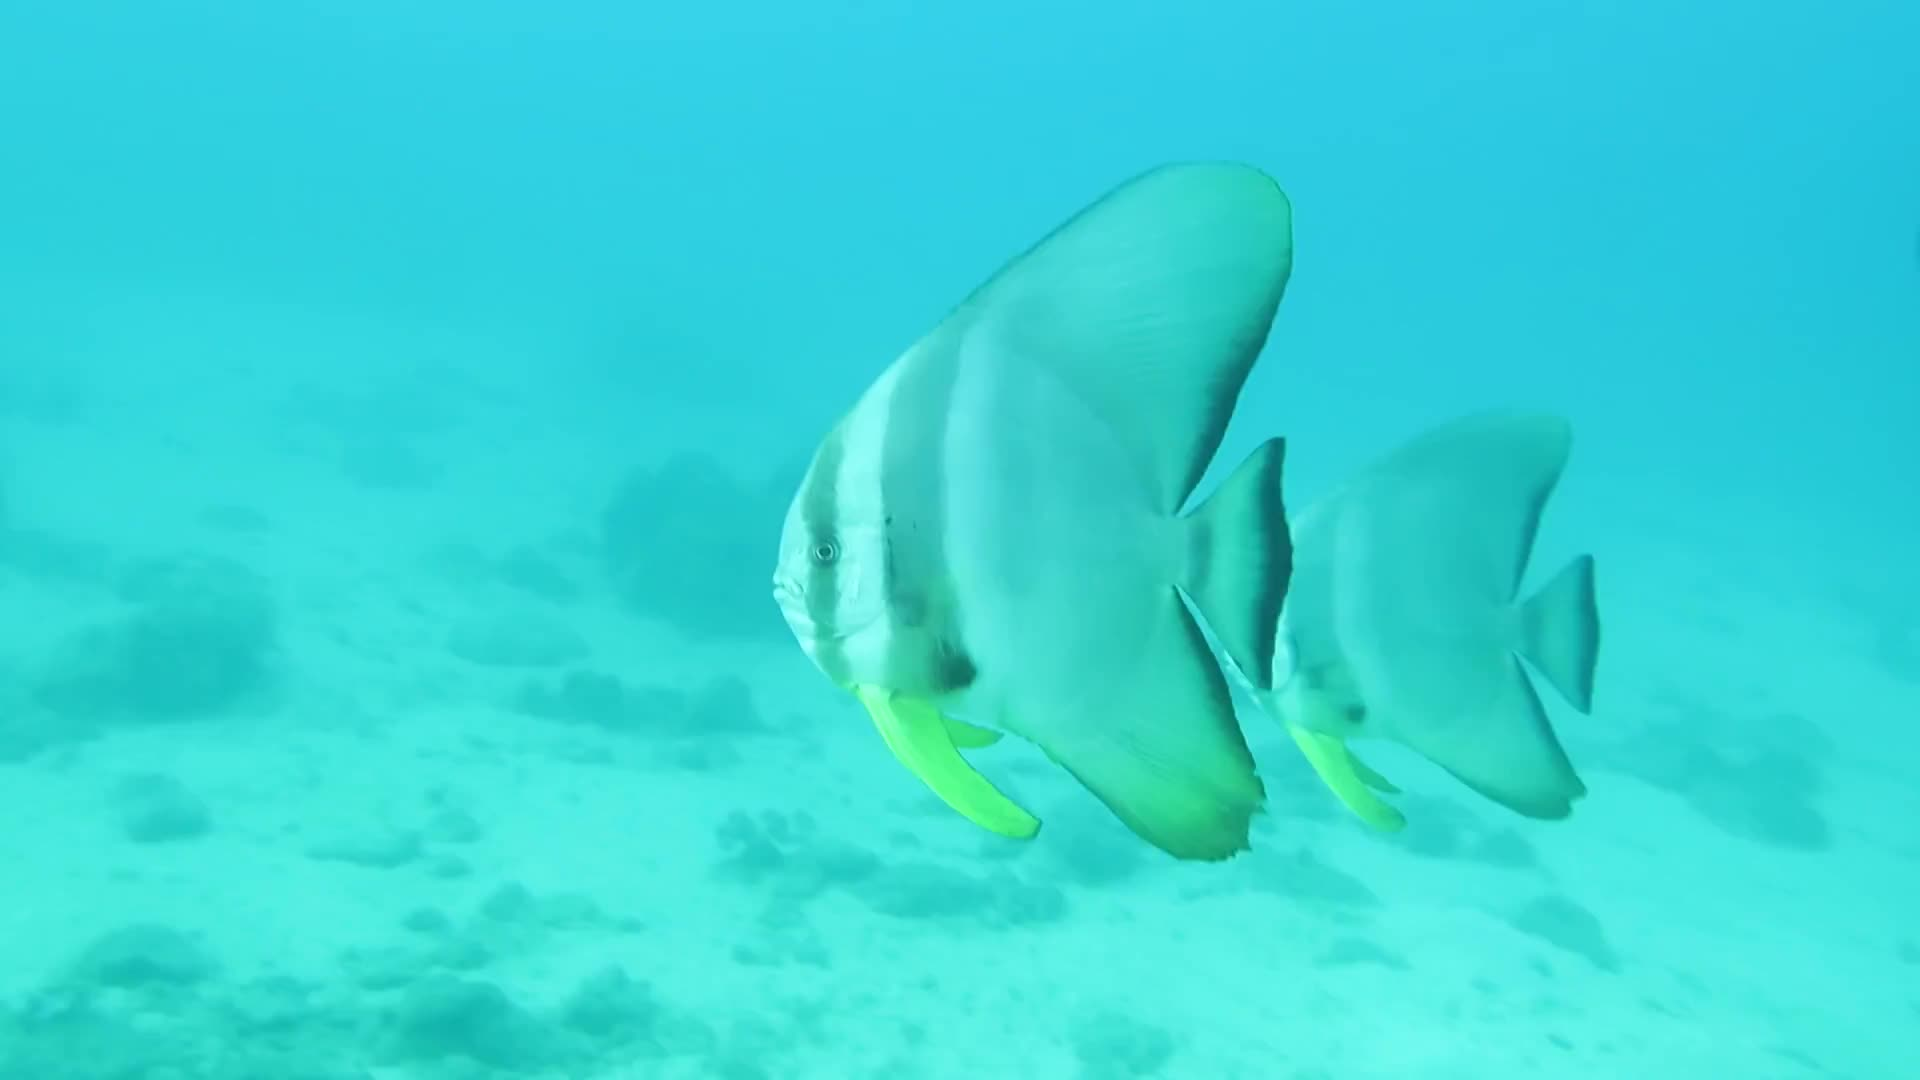Platax teira: (682, 65, 1361, 934)
